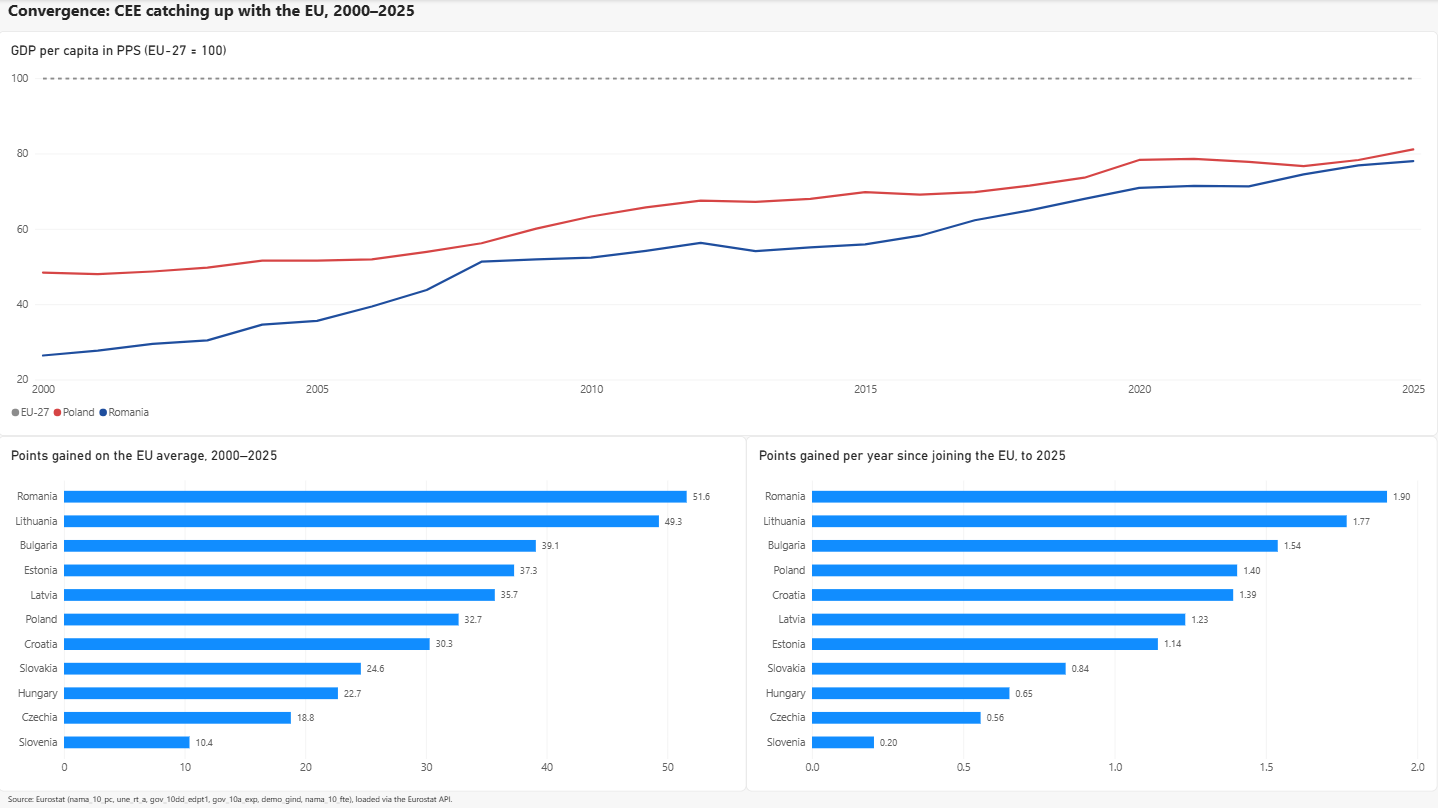

The page's visual inventory and layout, read from the dashboard file:
{"tool":"powerbi","page":{"name":"Convergence","canvas":[1920,1080],"ordinal":1},"visuals":[{"type":"lineChart","title":"GDP per capita in PPS (EU-27 = 100)","fields":{"Category":["DimYear.Year"],"Series":["DimCountry.Country"],"Y":["FactGDP.GDP Index"]},"box":[0,42.3,1920,539.8],"z":0},{"type":"clusteredBarChart","title":"Points gained per year since joining the EU, to 2025","fields":{"Category":["DimCountry.Country"],"Y":["FactGDP.Catch-up per Year"]},"box":[997.9,582.1,922.1,474.2],"z":1000},{"type":"clusteredBarChart","title":"Points gained on the EU average, 2000–2025","fields":{"Category":["DimCountry.Country"],"Y":["FactGDP.Change since 2000"]},"box":[0,582.1,997.9,474.2],"z":2000},{"type":"textbox","box":[13.1,0,722.2,399.8],"z":3000},{"type":"textbox","box":[13.1,1056.3,1906.9,23.3],"z":4000}]}

Visuals, with their boxes in screenshot pixels (x1, y1, x2, y2), scaled from the page's 1920x1080 canvas onto the 1438x808 screenshot:
"GDP per capita in PPS (EU-27 = 100)" lineChart: 0:32:1437:435
"Points gained per year since joining the EU, to 2025" clusteredBarChart: 747:435:1437:790
"Points gained on the EU average, 2000–2025" clusteredBarChart: 0:435:747:790
textbox: 10:0:551:299
textbox: 10:790:1437:807
